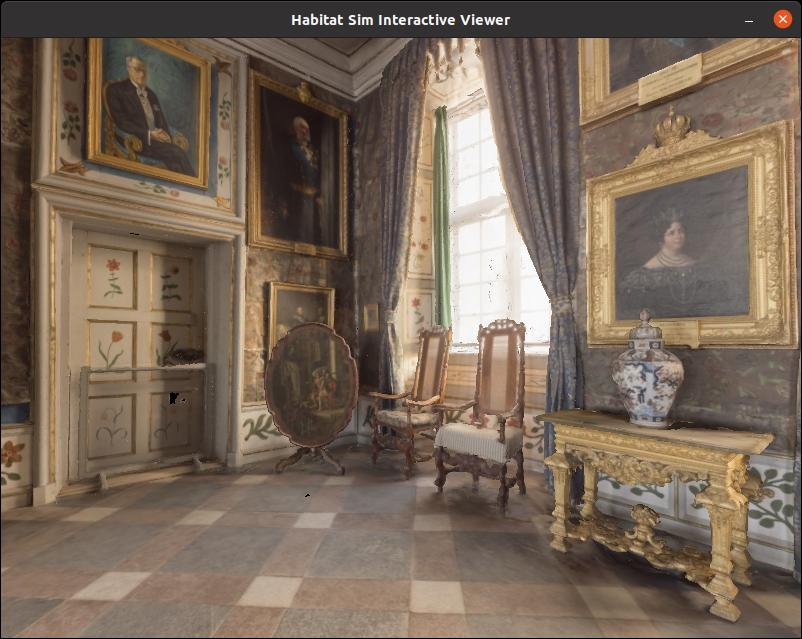chair: (414, 319, 557, 512), (361, 337, 454, 476)
door: (69, 227, 204, 467)
door-frame: (35, 185, 252, 519)
table: (549, 399, 768, 607)
